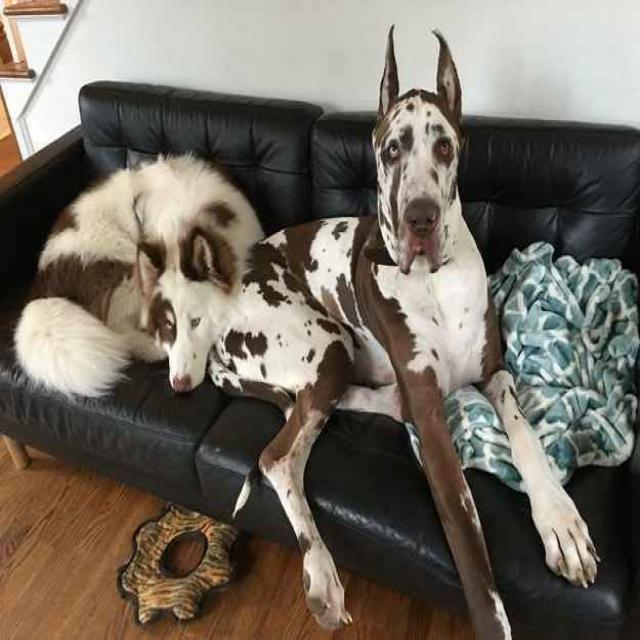Dogs: (207, 22, 601, 640), (15, 154, 269, 408)
